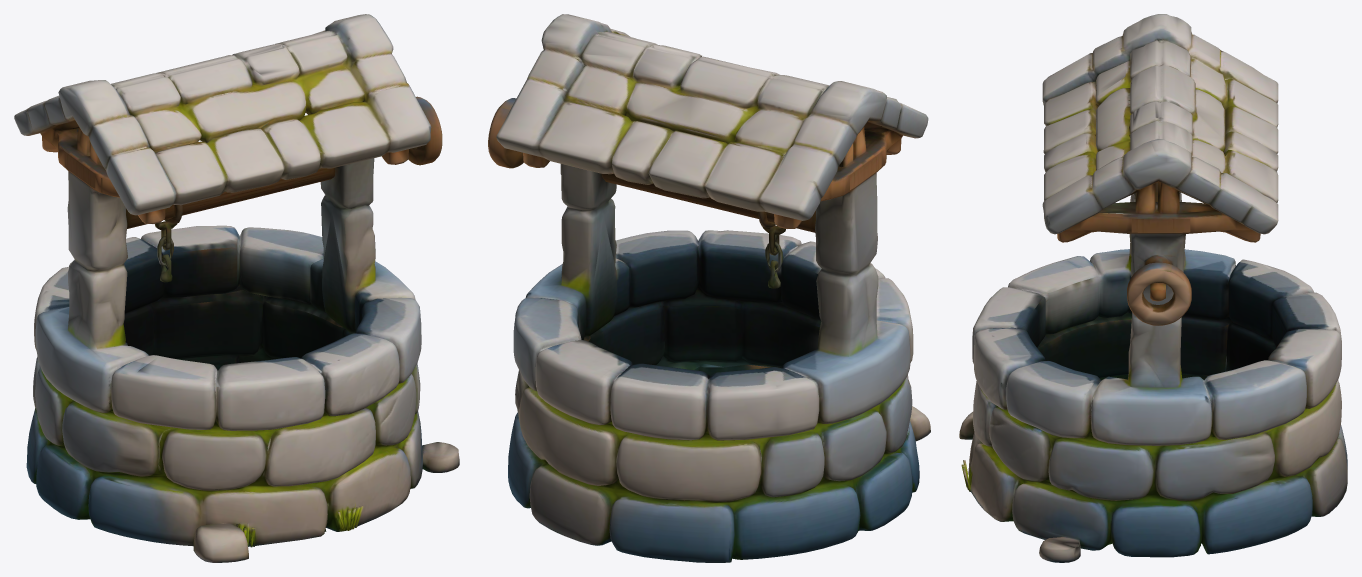
File: Nature__a_stone_well_beb20339_v3.cluster.glb
3 views of the same model, side by side, from view 1: azimuth 30°, elevation 25°; view 2: azimuth 150°, elevation 25°; view 3: azimuth 270°, elevation 25° (orthographic). The views are drawn at different scales.
Parts seen in each view (by area): view 1: material; view 2: material; view 3: material.
Part boxes in pixels (bbox=[...]): material: bbox=[14, 14, 459, 562]; material: bbox=[488, 14, 930, 562]; material: bbox=[959, 14, 1347, 562].
Size of the model in its own units: 1.81 by 1.9 by 1.69.
1 material, 1 textured.
